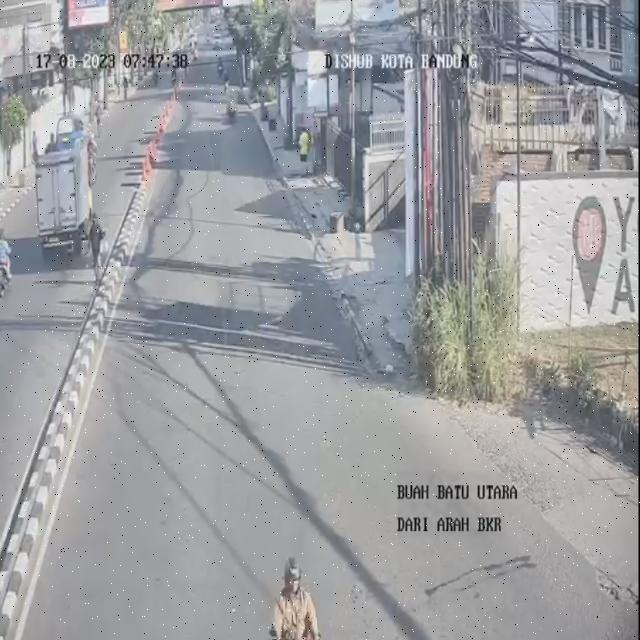motorcycle: (264, 549, 320, 640), (226, 90, 238, 122), (222, 65, 232, 92), (213, 56, 226, 74)
